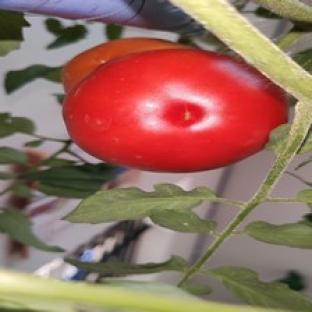Tomato: (63, 49, 288, 172), (62, 38, 190, 91)
